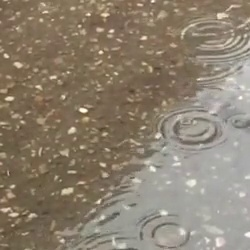drop: (179, 15, 250, 62), (157, 107, 227, 154), (176, 56, 245, 84), (140, 212, 189, 248), (228, 113, 250, 131)
